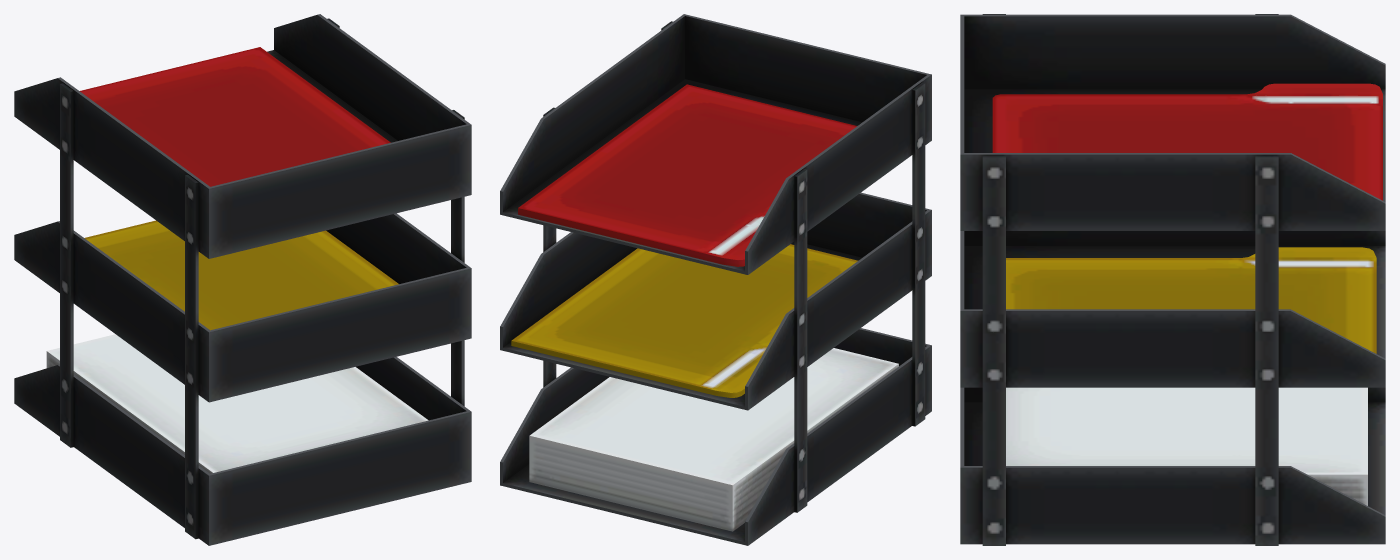
Rendered from OfficeDeskSet02__9.fbx.
The picture shows the model from 3 angles, left to right: view 1: azimuth 30°, elevation 25°; view 2: azimuth 150°, elevation 25°; view 3: azimuth 270°, elevation 25°; orthographic projection. The views are drawn at different scales.
Parts seen in each view (by area): view 1: OfficeDeskSet02; view 2: OfficeDeskSet02; view 3: OfficeDeskSet02.
Boxes of the visible parts, x1=… form: OfficeDeskSet02: x1=14, y1=14, x2=471, y2=545; OfficeDeskSet02: x1=500, y1=14, x2=931, y2=545; OfficeDeskSet02: x1=960, y1=14, x2=1385, y2=545.
Bounding box in the file's own units: 0.2622 × 0.3325 × 0.3287.
1 material, 1 textured.
